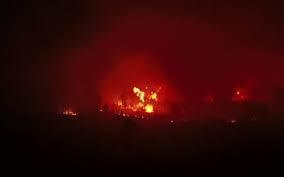fire: (115, 82, 162, 113)
